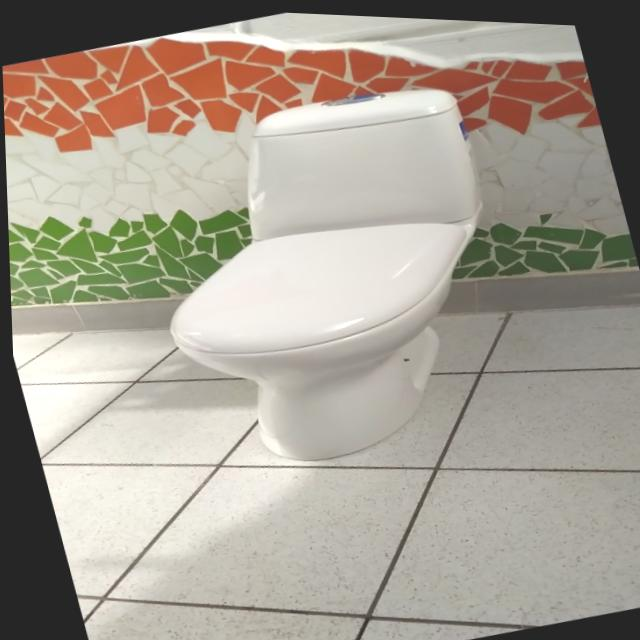toilet: (114, 59, 543, 491)
